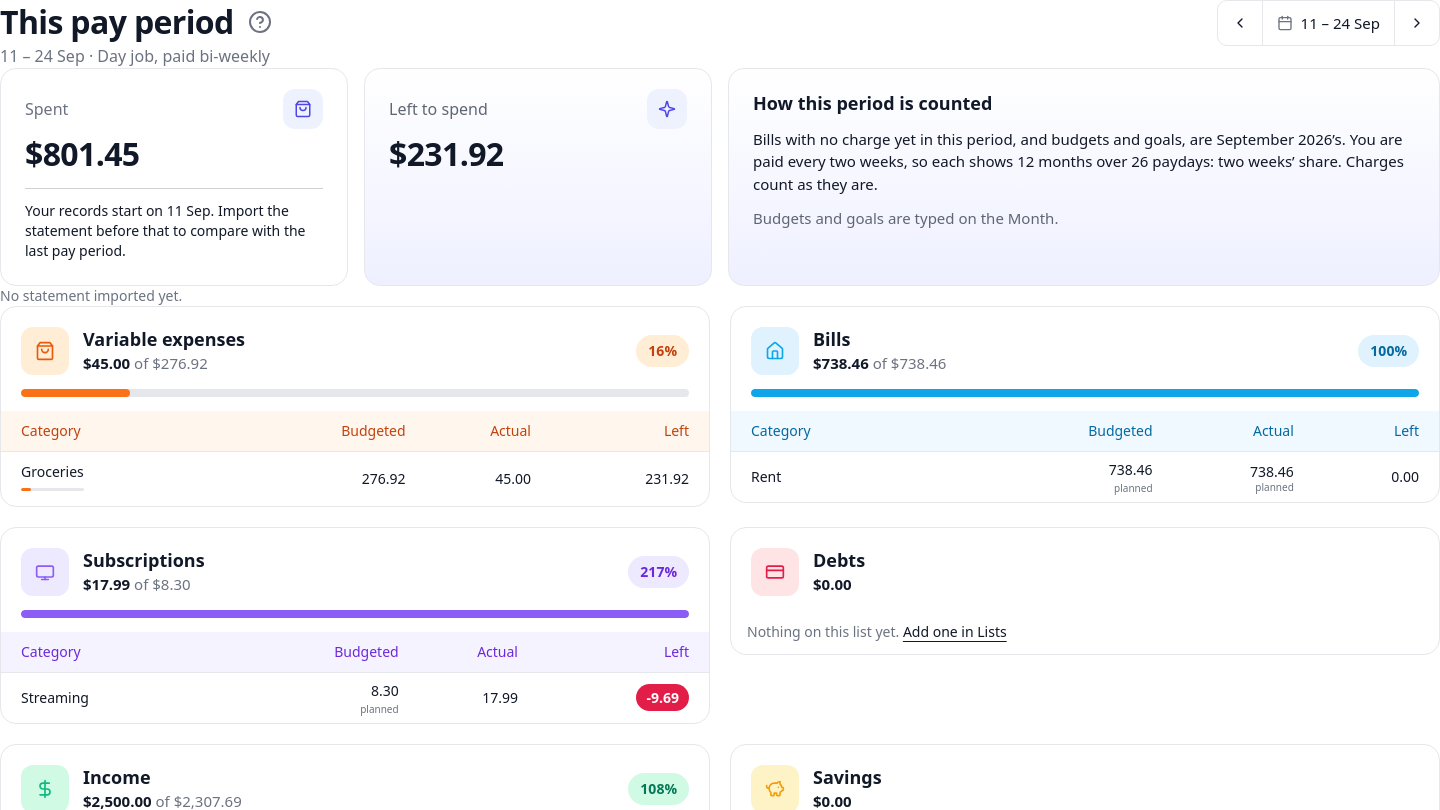
Test: PaycheckPeriod, a row opened (N48) › opens the pay period's charges filed under it, named with its dates, each with Move to…
Click the button "Groceries": (52, 476) top-left (21, 462), bottom-right (84, 491)
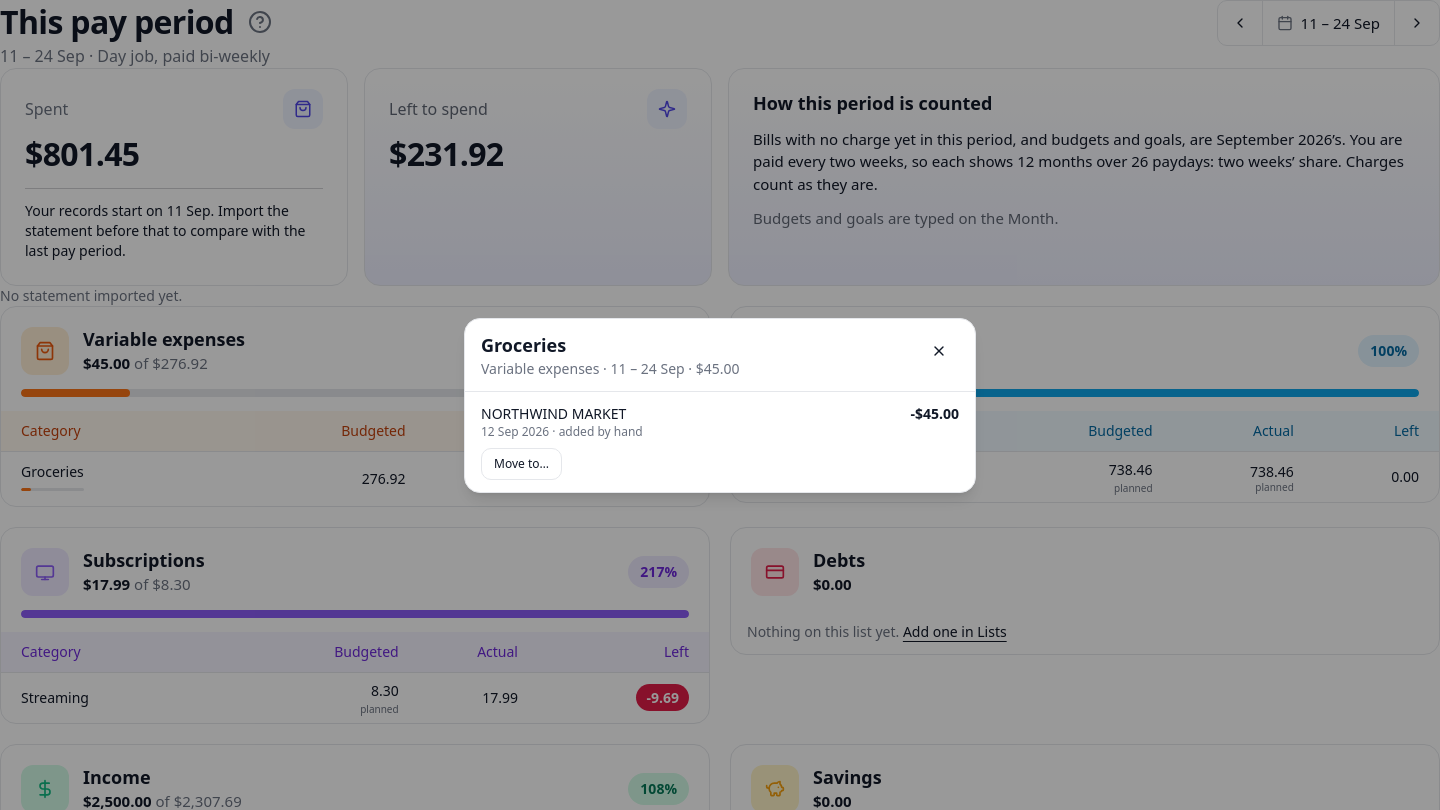
Expected: the text "Variable expenses · 11 – 24 Sep · $45.00" is shown, top-left (481, 358), bottom-right (740, 378)
